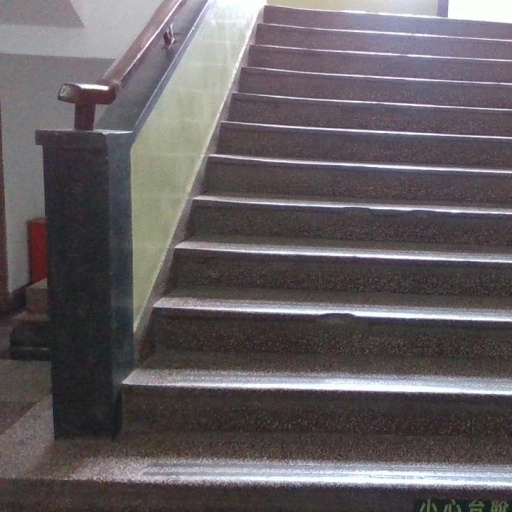Stairs: (104, 8, 512, 512)
